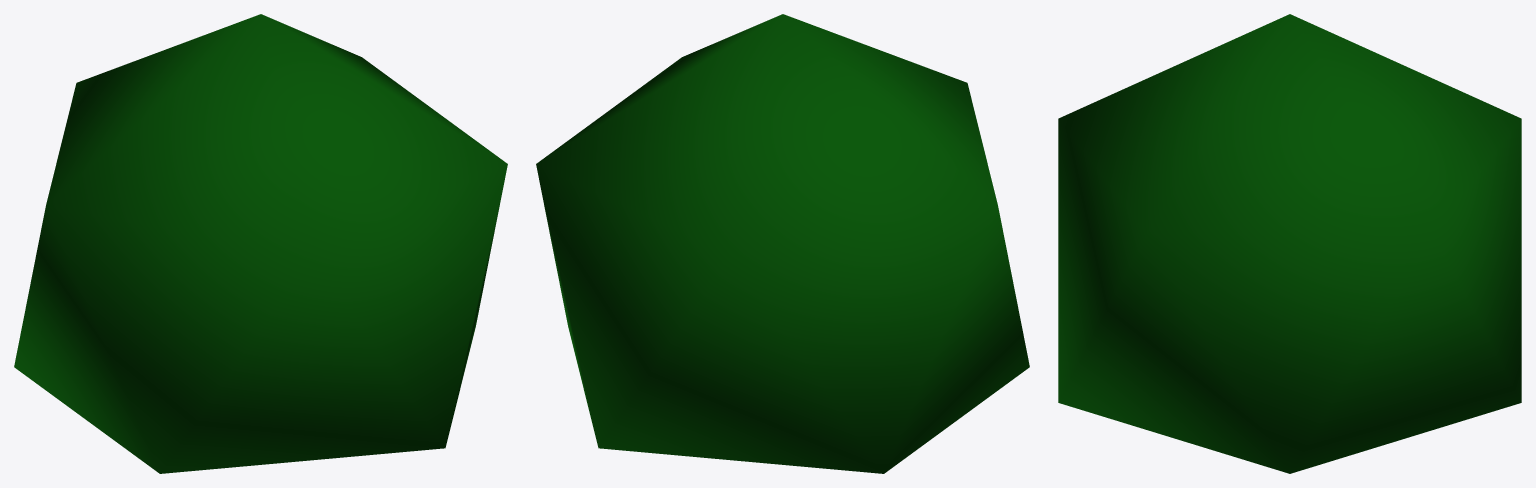
Rendered from House_Kitchen_Goodies_fridge_lettuce.FBX.
The picture shows the model from 3 angles, left to right: view 1: azimuth 30°, elevation 25°; view 2: azimuth 150°, elevation 25°; view 3: azimuth 270°, elevation 25°; orthographic projection.
Visible parts, largest first — view 1: House_Kitchen_Goodies_fridge_lettuce; view 2: House_Kitchen_Goodies_fridge_lettuce; view 3: House_Kitchen_Goodies_fridge_lettuce.
Part boxes in pixels (left/top/right/bottom): House_Kitchen_Goodies_fridge_lettuce: left=14, top=14, right=507, bottom=473; House_Kitchen_Goodies_fridge_lettuce: left=536, top=14, right=1029, bottom=473; House_Kitchen_Goodies_fridge_lettuce: left=1058, top=14, right=1521, bottom=473.
Bounding box in the file's own units: 48.02 × 42.09 × 45.67.
